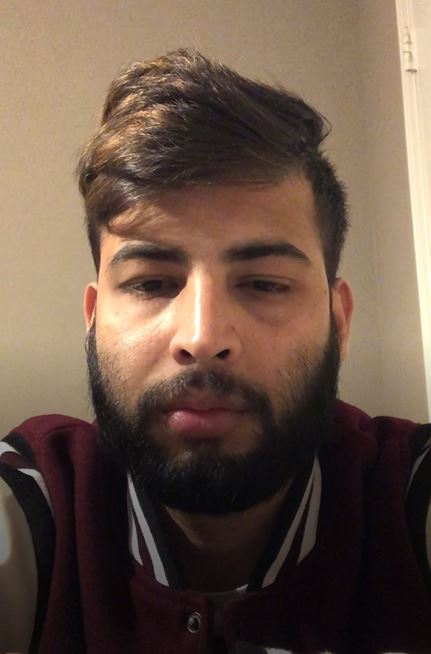Not Sleeping: (101, 252, 324, 317)
